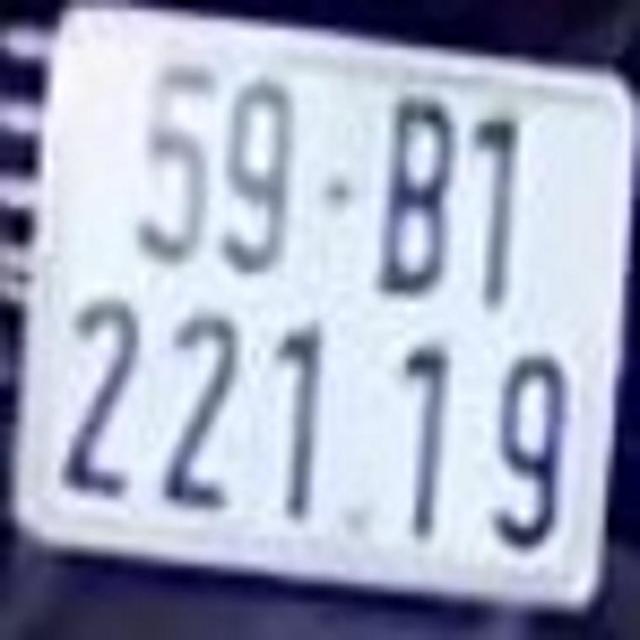1: (469, 105, 526, 314), (387, 326, 441, 540), (270, 313, 318, 521)
2: (59, 288, 141, 503), (160, 299, 237, 511)
5: (132, 50, 216, 272)
9: (221, 66, 294, 281), (491, 334, 561, 551)
B: (377, 90, 458, 305)
